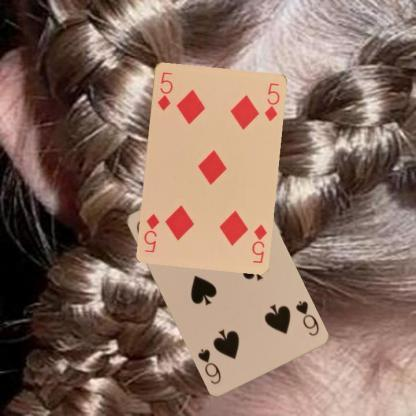5d: (155, 69, 174, 112), (249, 221, 268, 264)
6s: (292, 298, 320, 338)
